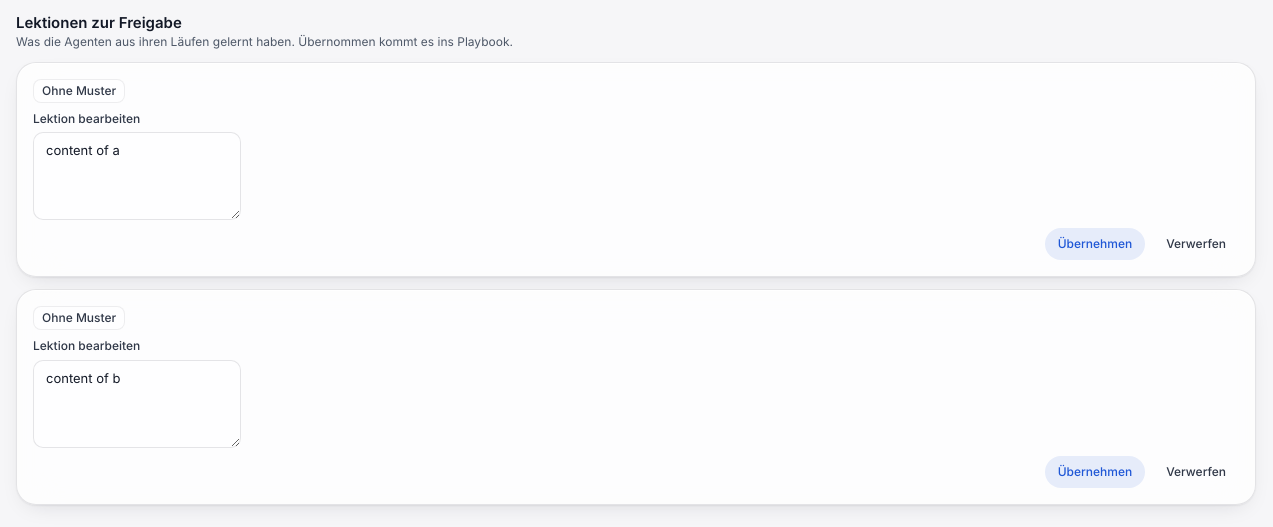
Scenario: LektionenFreigabe › approves with the text of the lesson and busies only that row
Check: the 1st text box "content of a" is shown, box [33,132,241,220]
Click the 1st button "Übernehmen": (1095,244) [1045,228,1145,260]
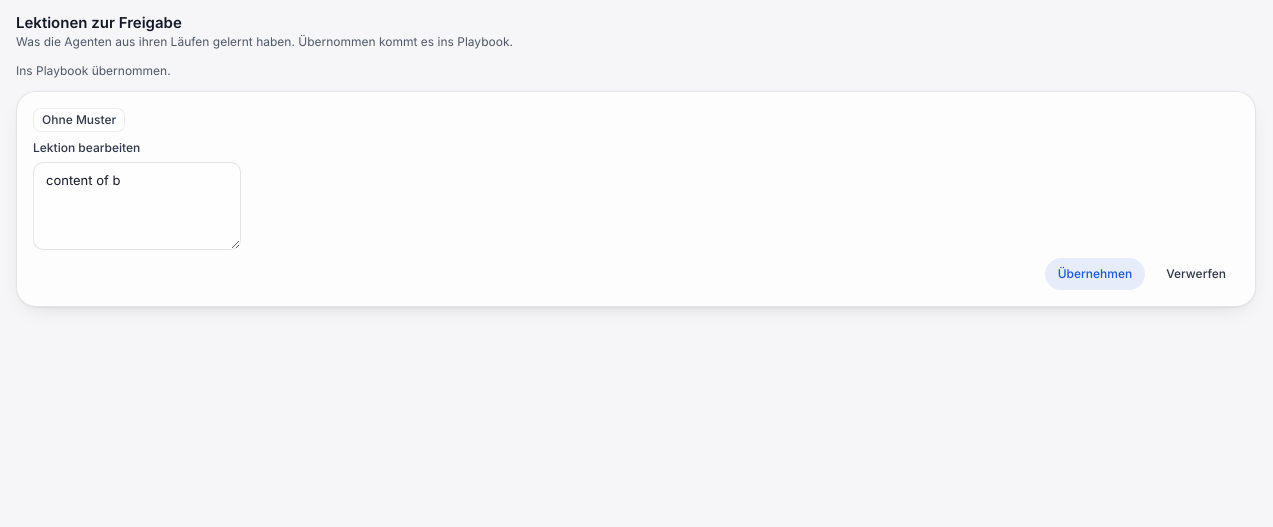
Check: the button "Übernehmen" is enabled, box [1045,258,1145,290]
Check: the text "Ins Playbook übernommen." is shown, box [16,63,171,78]
